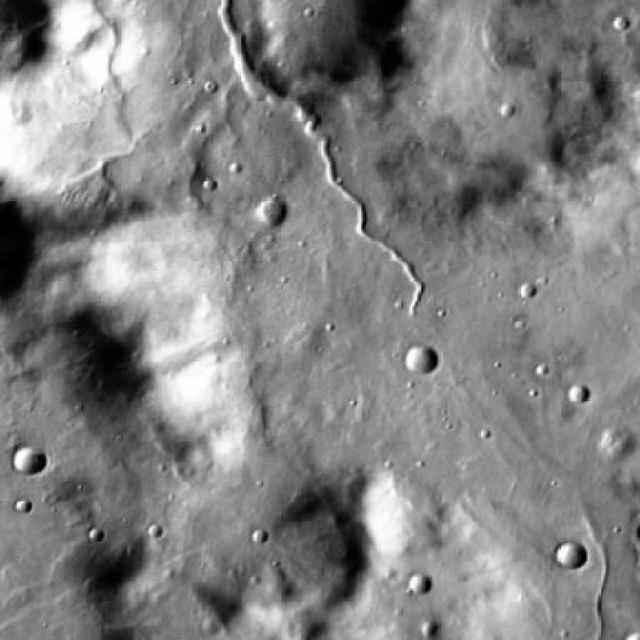crater: (594, 425, 632, 458), (10, 446, 44, 476), (407, 347, 438, 375), (554, 543, 586, 569), (252, 200, 283, 226), (614, 621, 640, 640), (408, 574, 428, 592), (567, 385, 585, 400), (635, 521, 640, 542)
